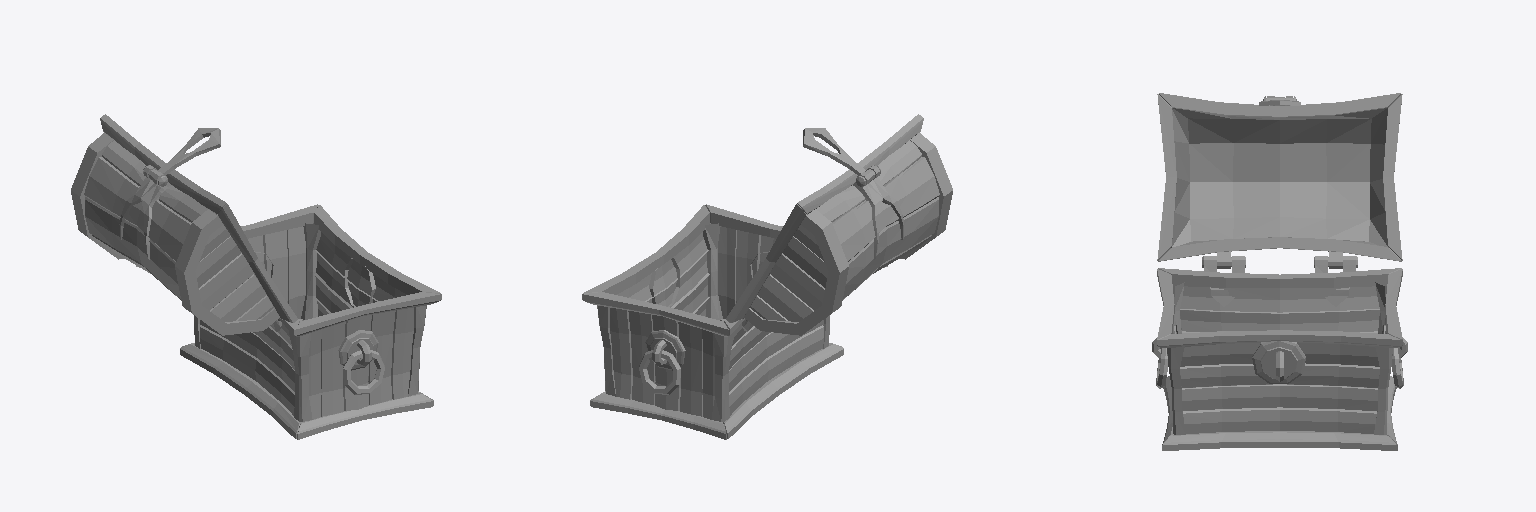
File: cufar.obj
The picture shows the model from 3 angles: view 1: azimuth 30°, elevation 25°; view 2: azimuth 150°, elevation 25°; view 3: azimuth 270°, elevation 25°; orthographic projection.
Visible parts, largest first — view 1: treasure_ches, treasure_ches,001; view 2: treasure_ches, treasure_ches,001; view 3: treasure_ches, treasure_ches,001.
Part boxes in pixels (left/top/right/bottom): treasure_ches: left=180, top=204, right=441, bottom=439; treasure_ches,001: left=71, top=114, right=297, bottom=335; treasure_ches: left=582, top=204, right=843, bottom=439; treasure_ches,001: left=726, top=114, right=952, bottom=335; treasure_ches: left=1152, top=256, right=1407, bottom=450; treasure_ches,001: left=1157, top=93, right=1402, bottom=268.
Bounding box in the file's own units: 5.28 × 5.37 × 4.55.